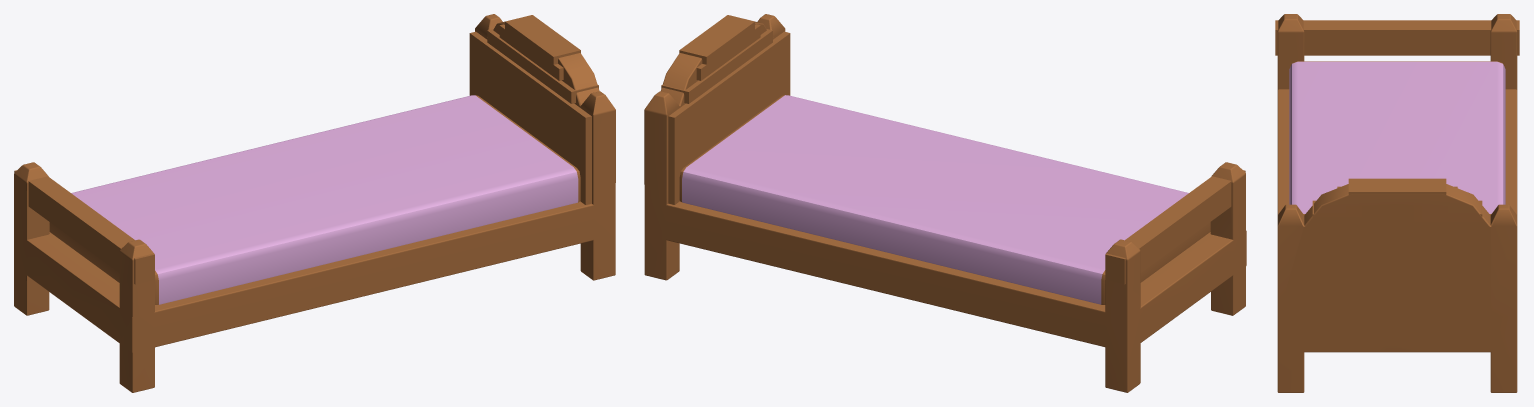
The model's file is bed.fbx.
The picture shows the model from 3 angles, left to right: view 1: azimuth 30°, elevation 25°; view 2: azimuth 150°, elevation 25°; view 3: azimuth 270°, elevation 25°; orthographic projection.
Parts seen in each view (by area): view 1: bed, main_bed_headboard, end, main_bed_headboard3, main_bed_headboard1, main_bed_headboard2; view 2: bed, main_bed_headboard, end, main_bed_headboard3, main_bed_headboard1, main_bed_headboard2; view 3: bed, end, main_bed_headboard3.
Boxes of the visible parts, bbox=[...] form: bed: bbox=[14, 14, 615, 392]; main_bed_headboard: bbox=[469, 31, 591, 204]; end: bbox=[14, 170, 154, 284]; main_bed_headboard3: bbox=[505, 15, 580, 64]; main_bed_headboard1: bbox=[487, 29, 598, 103]; main_bed_headboard2: bbox=[499, 24, 563, 80]; bed: bbox=[644, 14, 1246, 392]; main_bed_headboard: bbox=[668, 31, 790, 204]; end: bbox=[1105, 170, 1245, 284]; main_bed_headboard3: bbox=[679, 15, 754, 66]; main_bed_headboard1: bbox=[661, 29, 772, 103]; main_bed_headboard2: bbox=[696, 24, 760, 80]; bed: bbox=[1277, 14, 1517, 392]; end: bbox=[1275, 20, 1519, 55]; main_bed_headboard3: bbox=[1348, 178, 1446, 195].
Size of what is drawn, in the model's own units: 8.25 by 3.25 by 3.57.
